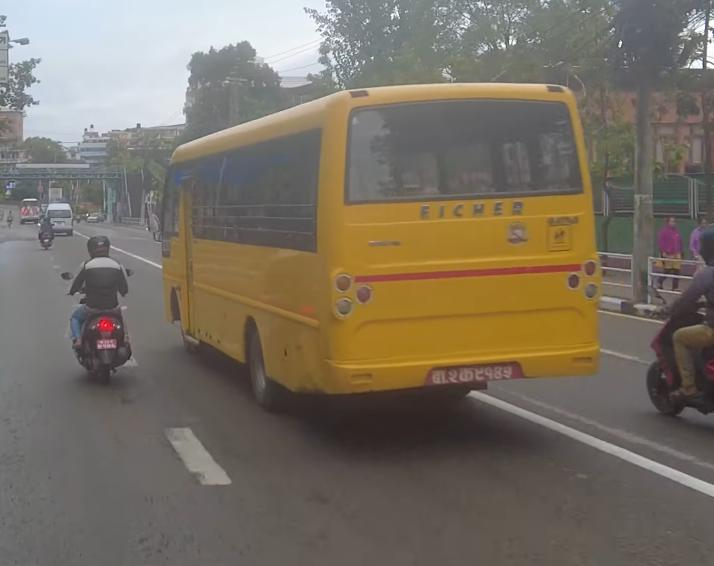micro_bus: (43, 200, 75, 235)
school_bus: (142, 77, 612, 420)
scooter: (638, 285, 714, 419), (63, 266, 136, 388)
